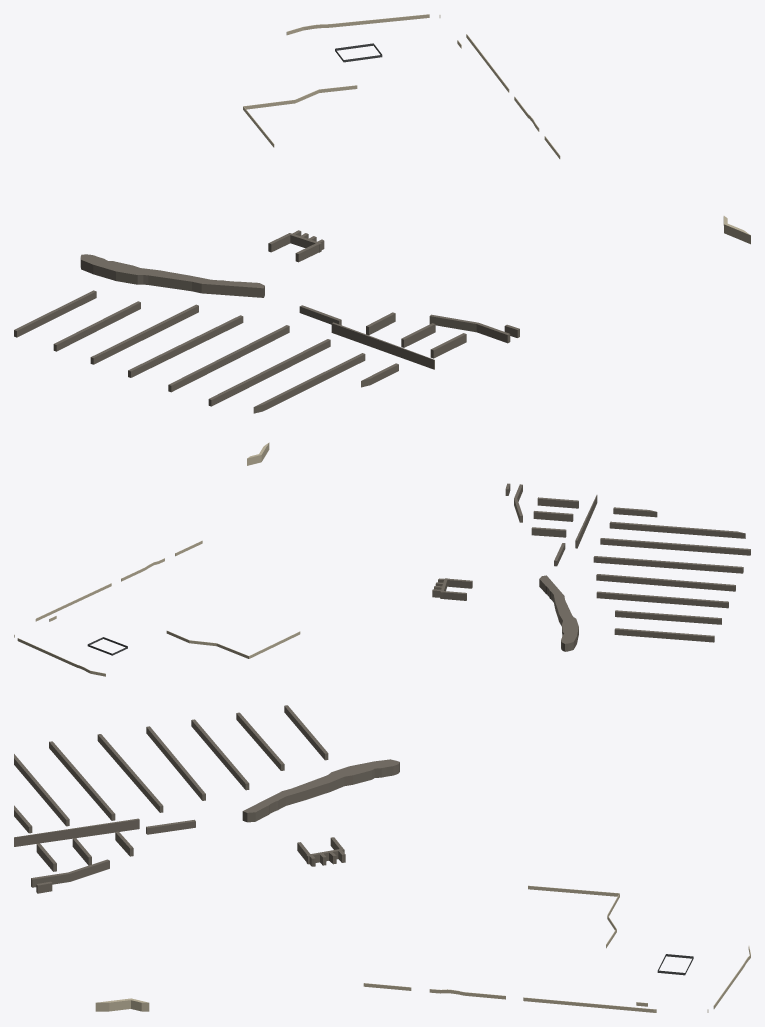
The model's file is walls.glb.
3 renders of one model, top to bottom at view 1: azimuth 30°, elevation 25°; view 2: azimuth 150°, elevation 25°; view 3: azimuth 270°, elevation 25°, orthographic. The views are drawn at different scales.
Visible parts, largest first — view 1: T_W2_N2_walls; view 2: T_W2_N2_walls; view 3: T_W2_N2_walls.
Boxes of the visible parts, x1,y1,x2,y2 form: T_W2_N2_walls: (14, 14, 750, 413); T_W2_N2_walls: (14, 442, 750, 676); T_W2_N2_walls: (14, 705, 750, 1012).
Bounding box in the file's own units: 485 × 12 × 492.
